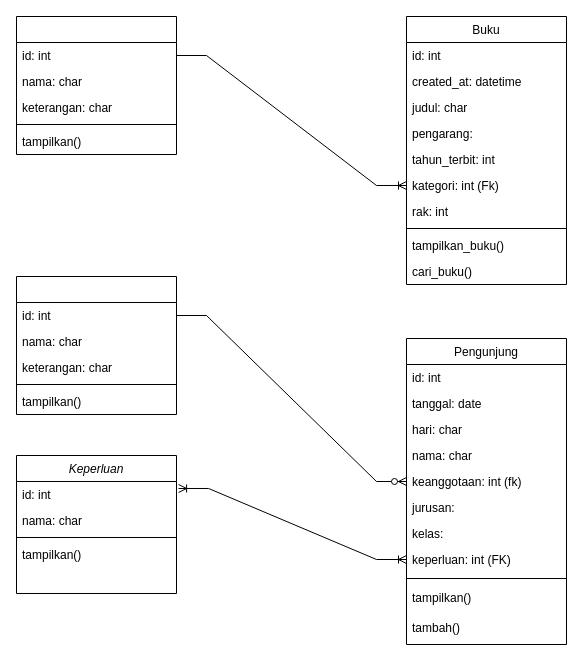
The diagram is 583 pixels wide and 661 high, and some of its shapes have lost their labels. The shapes that lost their labels are listed below. From the top down, each one's box as (x1, y1, x2, y2) in pixels, then its label:
(16, 16, 176, 154): Kategori_buku
(16, 276, 176, 414): Keanggotaan
